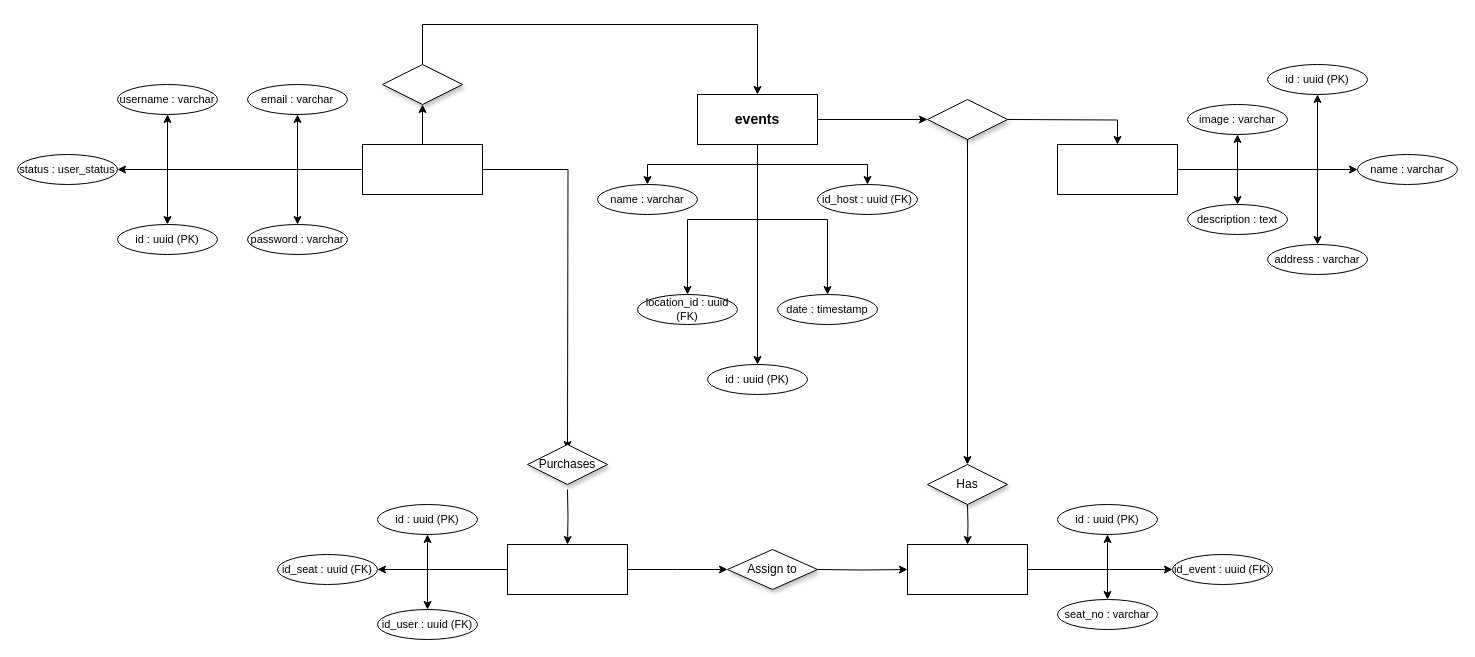
This 1475x657 diagram has some shape labels left out. Each missing label, with the centre of its shape:
"Held at" belongs at pixel 968 120.
"Hosts" belongs at pixel 423 86.
"locations" belongs at pixel 1117 169.
"seats" belongs at pixel 967 569.
"tickets" belongs at pixel 567 569.
"users" belongs at pixel 422 169.
